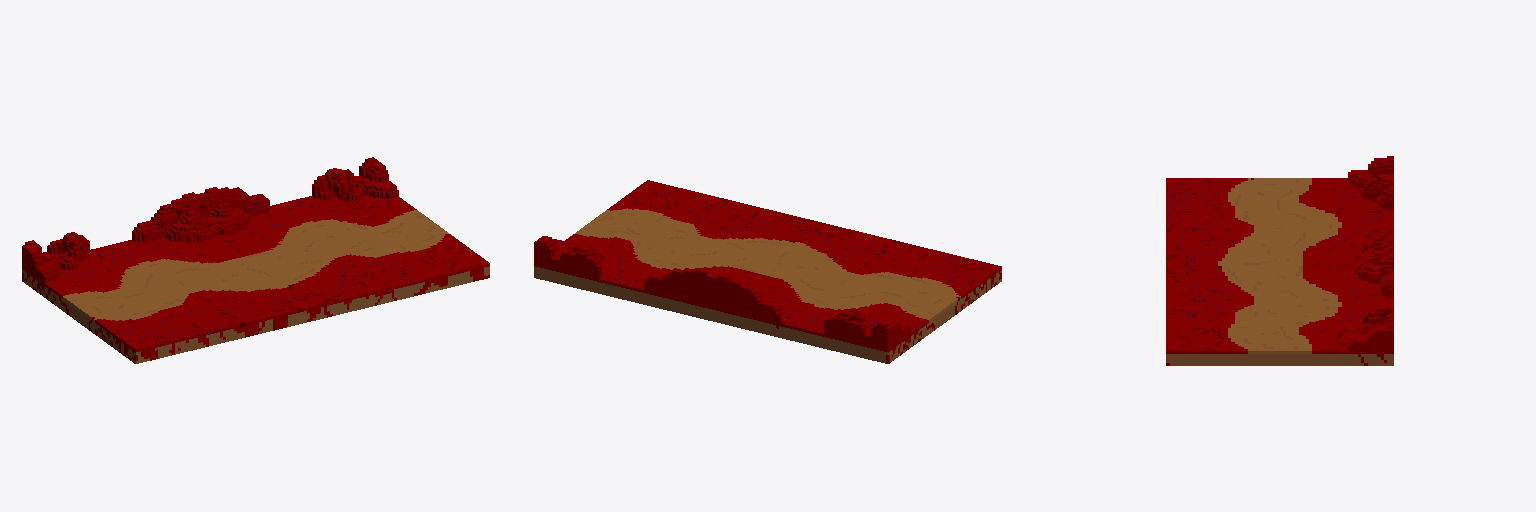
The picture shows the model from 3 angles: view 1: azimuth 30°, elevation 25°; view 2: azimuth 150°, elevation 25°; view 3: azimuth 270°, elevation 25°; orthographic projection.
Visible parts, largest first — view 1: object 1; view 2: object 1; view 3: object 1.
Part boxes in pixels (left/top/right/bottom): object 1: left=22, top=157, right=489, bottom=363; object 1: left=534, top=180, right=1001, bottom=363; object 1: left=1166, top=156, right=1393, bottom=365.
Size of the model in its own units: 12.6 by 1.6 by 7.
Materials: 1 (1 with a texture image).